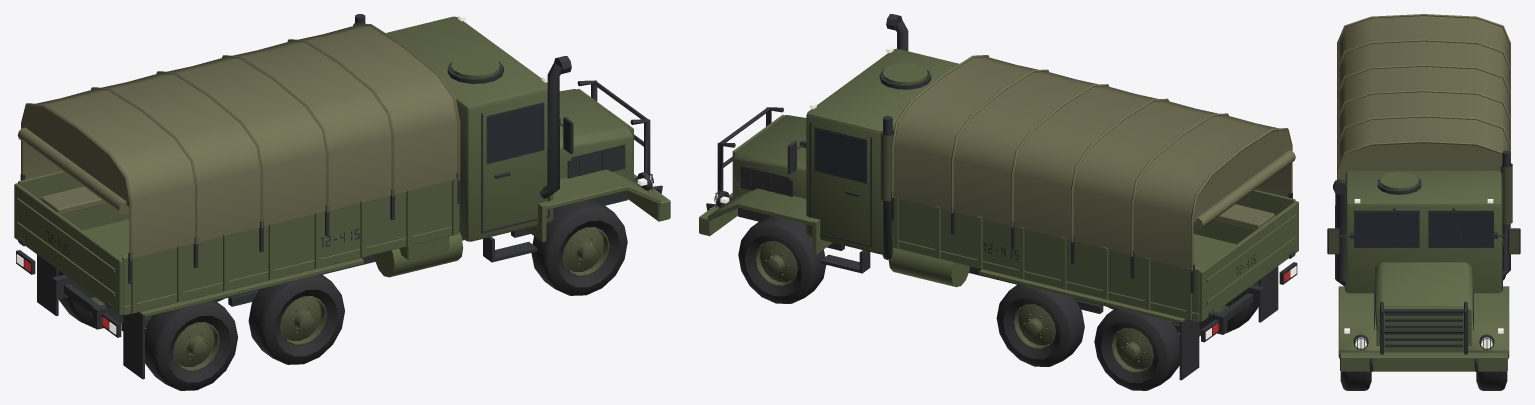
Rendered from army_truck.glb.
3 renders of one model, left to right at view 1: azimuth 30°, elevation 25°; view 2: azimuth 150°, elevation 25°; view 3: azimuth 270°, elevation 25°, orthographic. The views are drawn at different scales.
Parts seen in each view (by area): view 1: Body, Wheel_FR, Wheel_MR, Wheel_RR, Wheel_RL; view 2: Body, Wheel_FL, Wheel_ML, Wheel_RL; view 3: Body, Wheel_FL, Wheel_FR.
Boxes of the visible parts, bbox=[...] form: Body: bbox=[14, 14, 670, 379]; Wheel_FR: bbox=[531, 199, 627, 295]; Wheel_MR: bbox=[248, 274, 344, 364]; Wheel_RR: bbox=[145, 300, 237, 390]; Wheel_RL: bbox=[58, 270, 104, 327]; Body: bbox=[699, 14, 1298, 380]; Wheel_FL: bbox=[738, 215, 826, 303]; Wheel_ML: bbox=[996, 284, 1084, 366]; Wheel_RL: bbox=[1094, 308, 1179, 390]; Body: bbox=[1327, 14, 1520, 371]; Wheel_FL: bbox=[1476, 353, 1509, 390]; Wheel_FR: bbox=[1338, 353, 1371, 390].
Bounding box in the file's own units: 7.4 × 3.1 × 2.76.
Materials: 8 (3 with a texture image).
